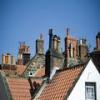chimneys: (18, 42, 30, 64)
